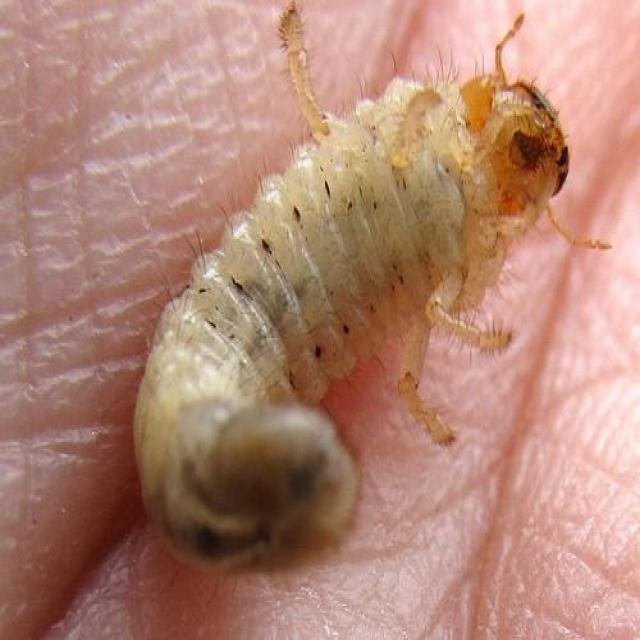grub: (132, 51, 585, 555)
